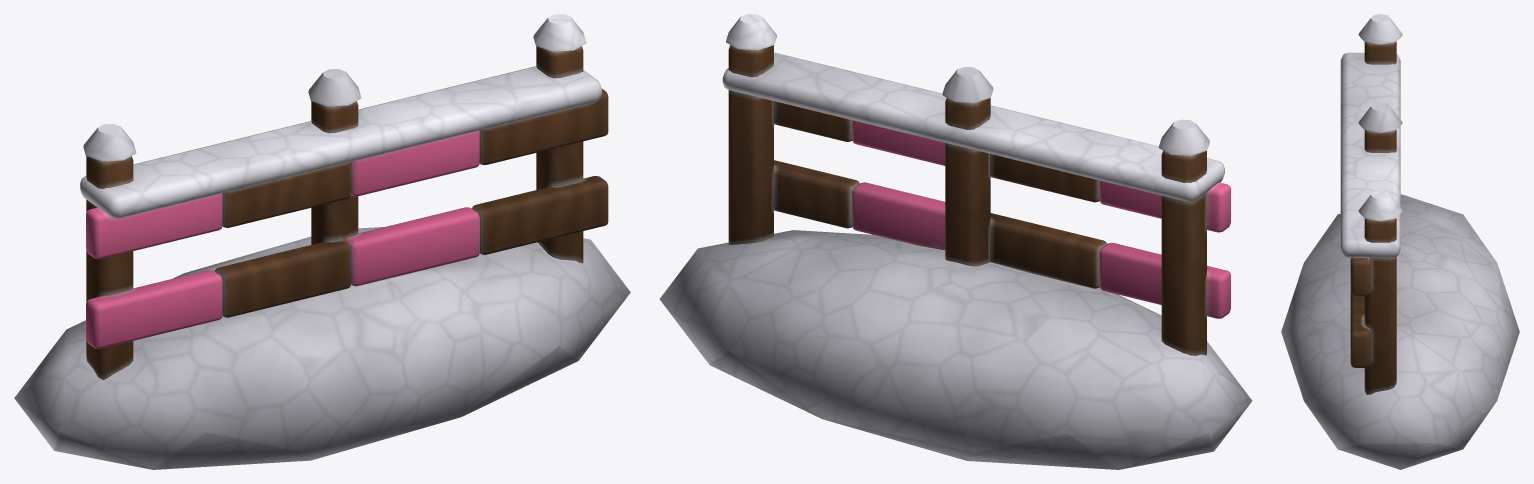
Rendered from sf_obstacle_fence.glb.
The picture shows the model from 3 angles, left to right: view 1: azimuth 30°, elevation 25°; view 2: azimuth 150°, elevation 25°; view 3: azimuth 270°, elevation 25°; orthographic projection. The views are drawn at different scales.
Parts seen in each view (by area): view 1: sf_obstacle_fence; view 2: sf_obstacle_fence; view 3: sf_obstacle_fence.
Boxes of the visible parts, x1,y1,x2,y2 form: sf_obstacle_fence: [14, 14, 630, 469]; sf_obstacle_fence: [659, 14, 1252, 469]; sf_obstacle_fence: [1281, 14, 1519, 469].
Bounding box in the file's own units: 2.66 × 1.65 × 1.2.
3 materials, 3 textured.
